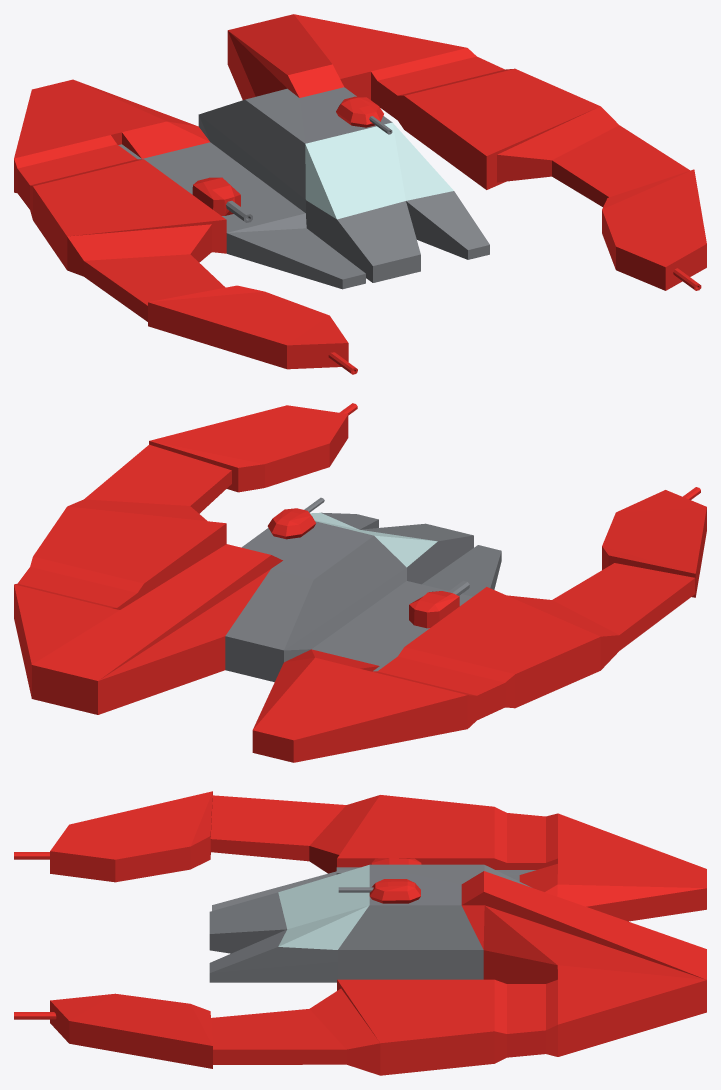
The model's file is drone_5_1.gltf.
3 views of the same model, one above another, from view 1: azimuth 30°, elevation 25°; view 2: azimuth 150°, elevation 25°; view 3: azimuth 270°, elevation 25° (orthographic). The views are drawn at different scales.
Visible parts, largest first — view 1: 5.001; view 2: 5.001; view 3: 5.001.
Boxes of the visible parts, x1=… form: 5.001: x1=14, y1=14, x2=706, y2=374; 5.001: x1=14, y1=403, x2=706, y2=762; 5.001: x1=14, y1=791, x2=706, y2=1075.
Size of the model in its own units: 7.12 by 1.11 by 8.2.
Materials: 1 (1 with a texture image).
